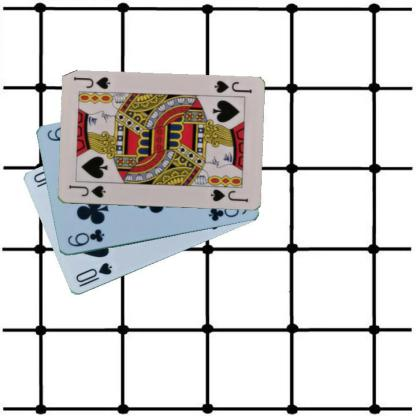10s: (73, 260, 114, 289)
6c: (64, 226, 106, 249)
Js: (65, 182, 107, 199), (211, 78, 252, 95)
